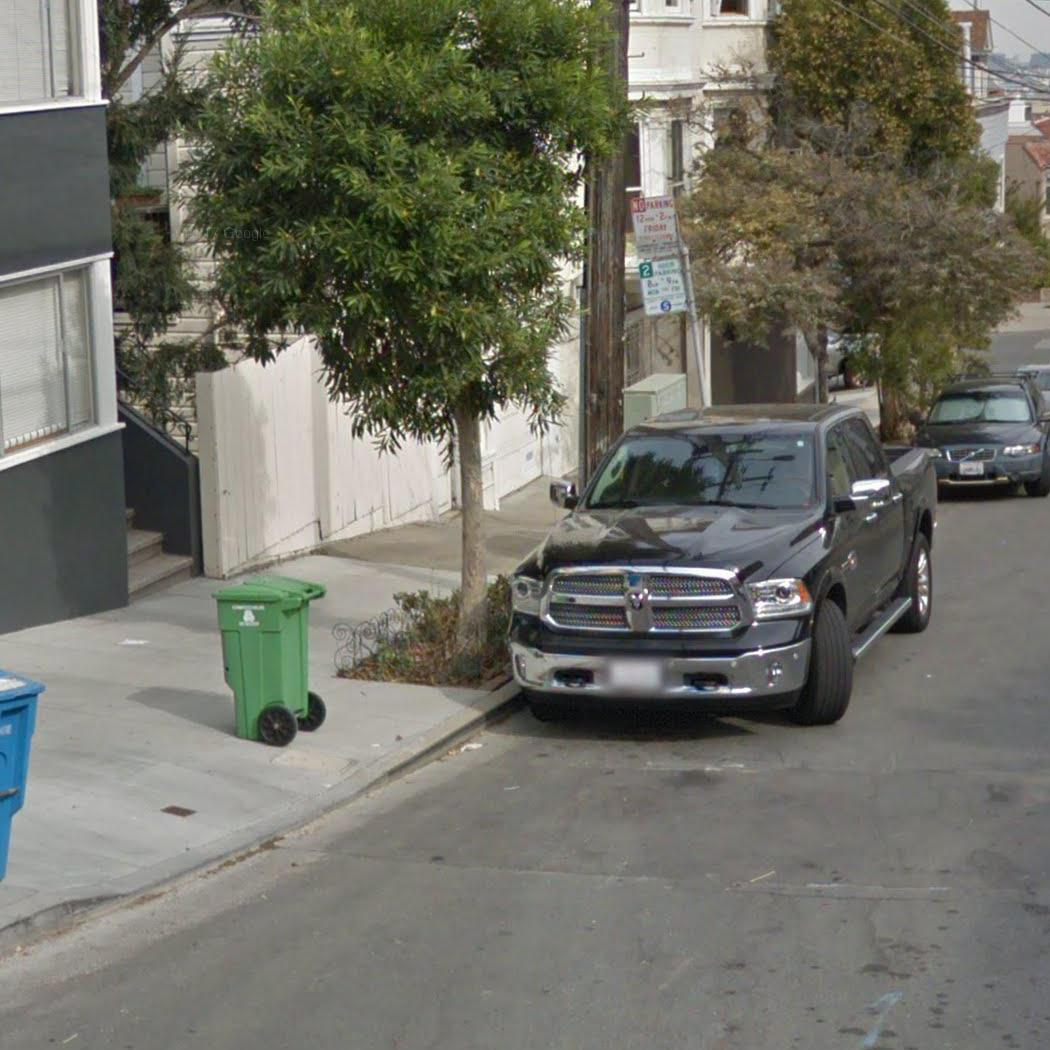2 Hour Parking: (637, 257, 692, 318)
No Parking: (628, 193, 683, 261)
